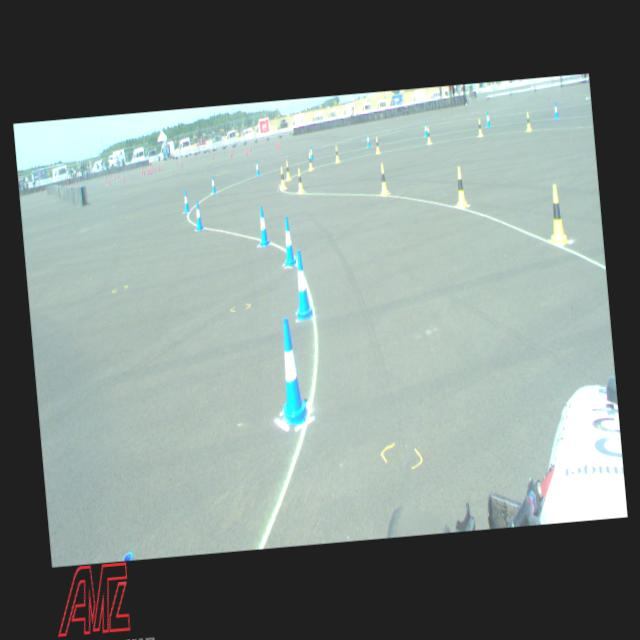blue_cone: (274, 316, 310, 424), (292, 248, 314, 320), (280, 216, 296, 266), (256, 204, 270, 247), (192, 199, 204, 230), (182, 189, 190, 212), (210, 174, 217, 194), (552, 100, 558, 118), (484, 110, 490, 126), (254, 160, 260, 176), (422, 122, 427, 136), (310, 144, 314, 160), (366, 132, 370, 146)
yellow_cone: (546, 183, 568, 245), (453, 165, 468, 208), (378, 162, 388, 195), (296, 168, 304, 192), (524, 111, 532, 131), (279, 166, 286, 188), (476, 118, 484, 136), (284, 160, 291, 180), (374, 136, 380, 154), (426, 126, 432, 144), (307, 152, 313, 170), (334, 145, 339, 163)
